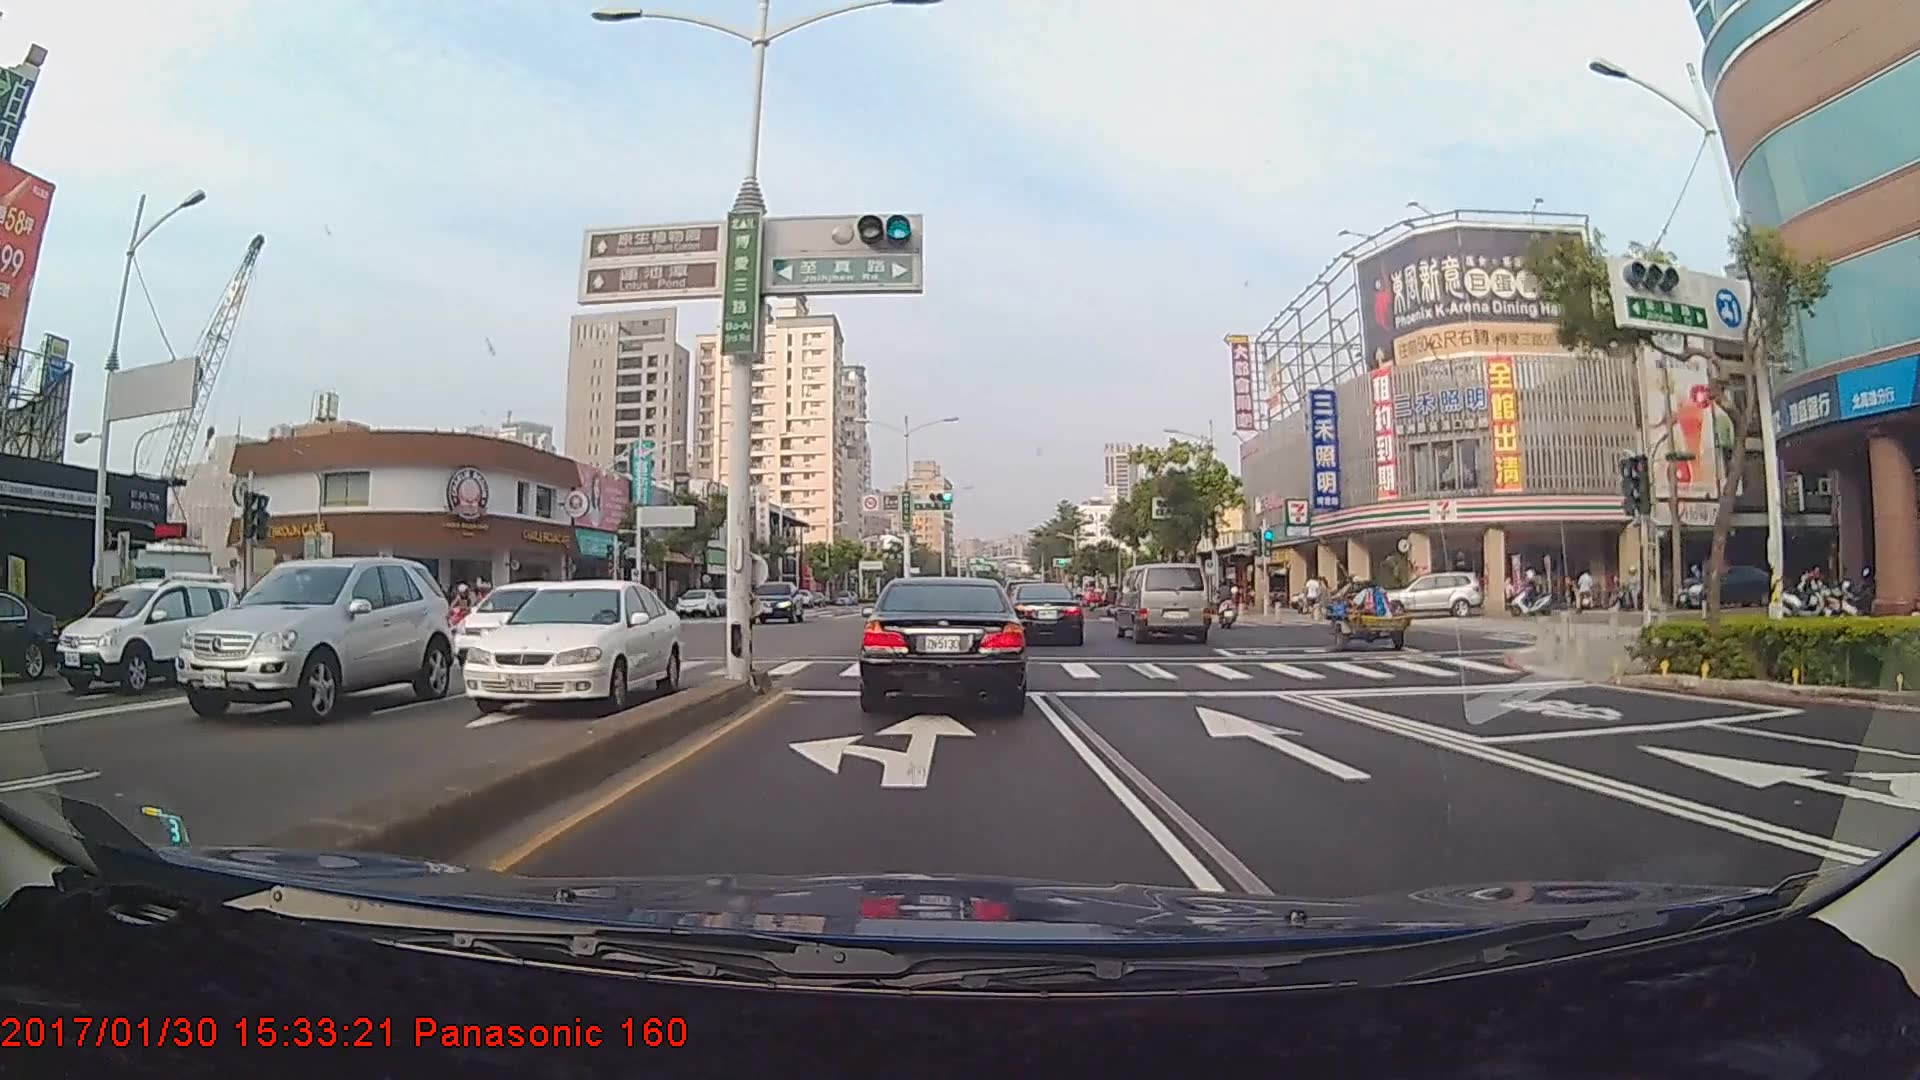rider: (440, 581, 483, 642), (1209, 580, 1244, 634)
vehicle: (159, 552, 448, 723), (445, 575, 690, 718), (53, 570, 239, 700), (861, 572, 1028, 715), (448, 583, 587, 671), (1115, 561, 1211, 644), (1009, 582, 1085, 646), (0, 591, 56, 677), (1396, 571, 1483, 620), (673, 587, 719, 617)
